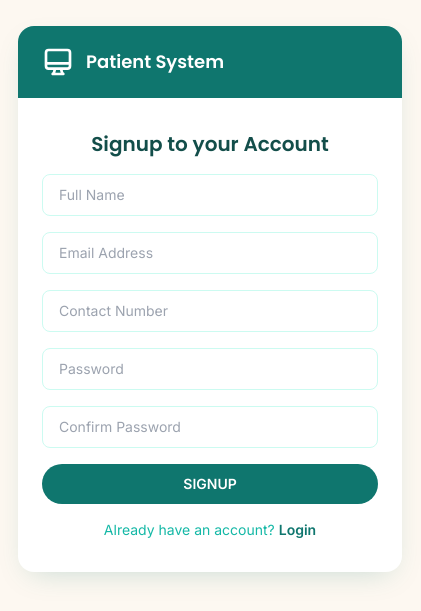
Test: Signup page › shows an error when passwords do not match
Type "Alina Joe" into the field with placeholder "Full Name".
click(210, 195); type("Alina Joe")  # box [42,174,378,216]
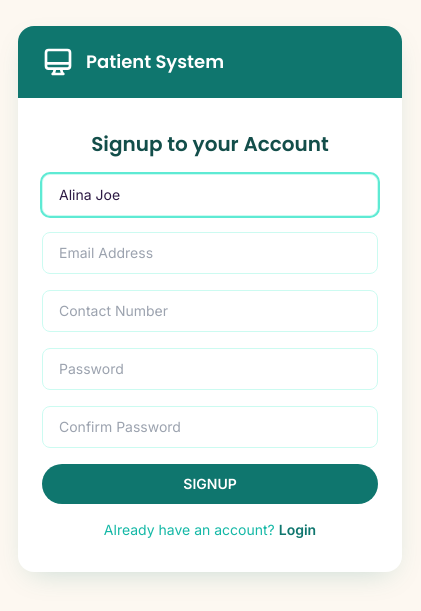
Type "alina@example.com" into the field with placeholder "Email Address".
click(210, 253); type("alina@example.com")  # box [42,232,378,274]
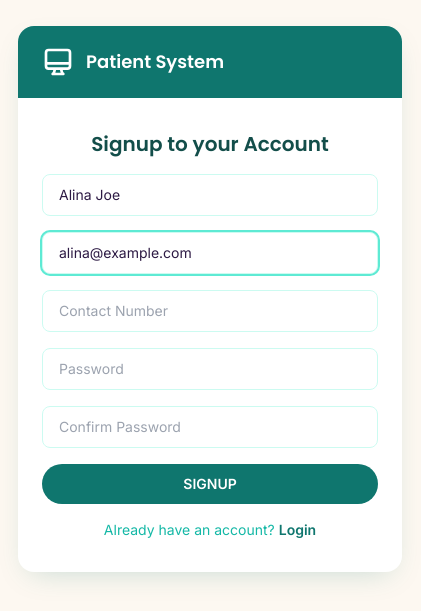
Type "9876543210" into the field with placeholder "Contact Number".
click(210, 311); type("9876543210")  # box [42,290,378,332]
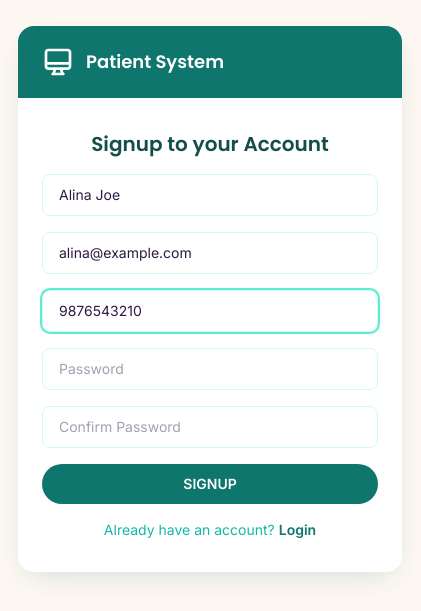
Type "password1" into the password field with placeholder "Password".
click(210, 369); type("password1")  # box [42,348,378,390]
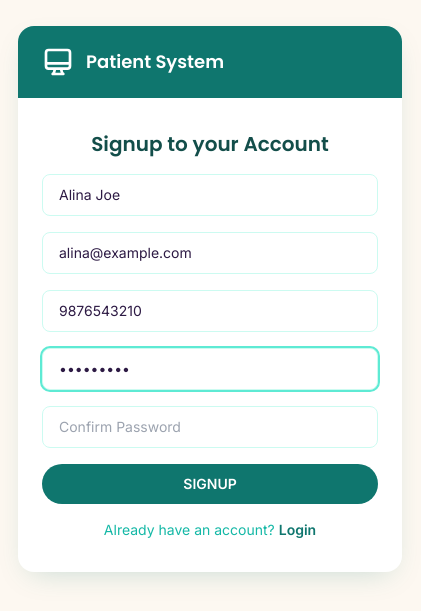
Type "password2" into the password field with placeholder "Confirm Password".
click(210, 427); type("password2")  # box [42,406,378,448]
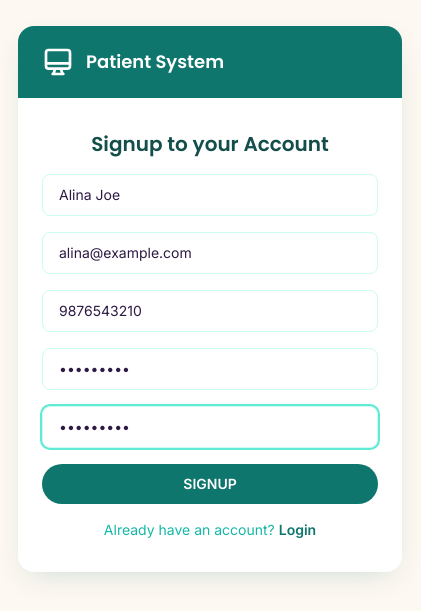
Click the button "SIGNUP".
click(210, 484)  # box [42,464,378,504]
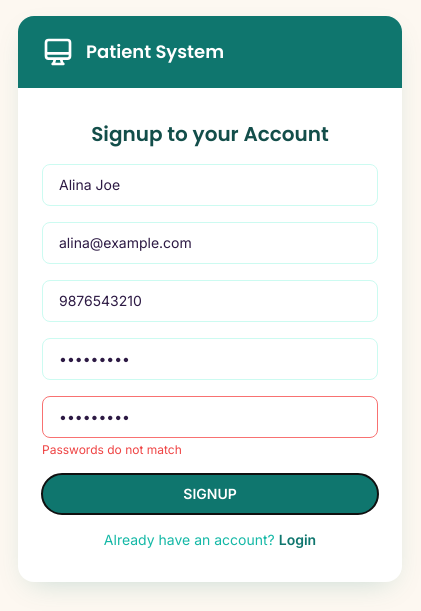
Expected: the text "Passwords do not match" is shown, [42,442,182,457]
